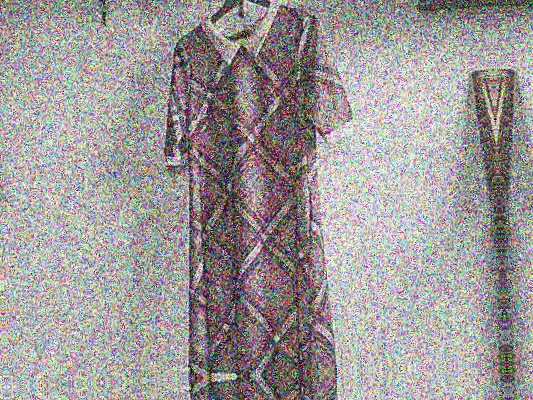Dress: (149, 0, 382, 377), (168, 373, 400, 400)
